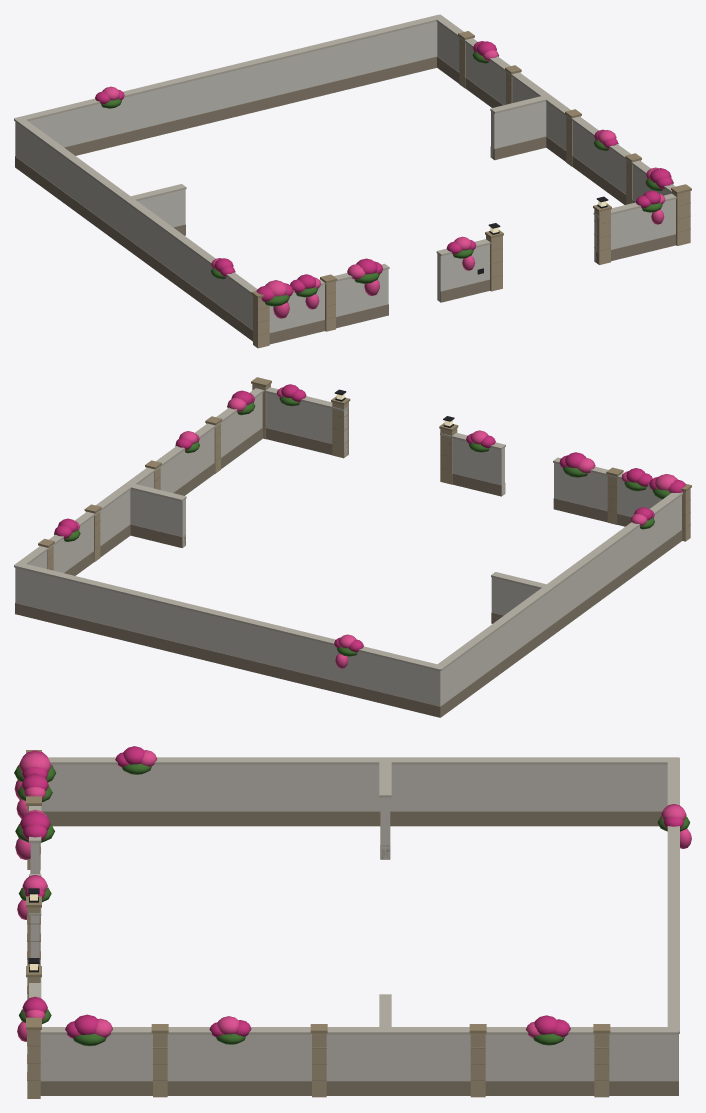
File: wall.glb
3 views of the same model, one above another, from view 1: azimuth 30°, elevation 25°; view 2: azimuth 150°, elevation 25°; view 3: azimuth 270°, elevation 25° (orthographic). The views are drawn at different scales.
Parts seen in each view (by area): view 1: wall:plain, wall:leaves; view 2: wall:plain, wall:leaves; view 3: wall:plain, wall:leaves.
Part boxes in pixels (<box>): wall:plain: <box>14,14,691,348</box>; wall:leaves: <box>95,41,673,318</box>; wall:plain: <box>14,377,691,717</box>; wall:leaves: <box>54,384,685,668</box>; wall:plain: <box>26,750,679,1098</box>; wall:leaves: <box>14,746,691,1046</box>.
Bounding box in the file's own units: 22.9 × 3.12 × 23.03.
